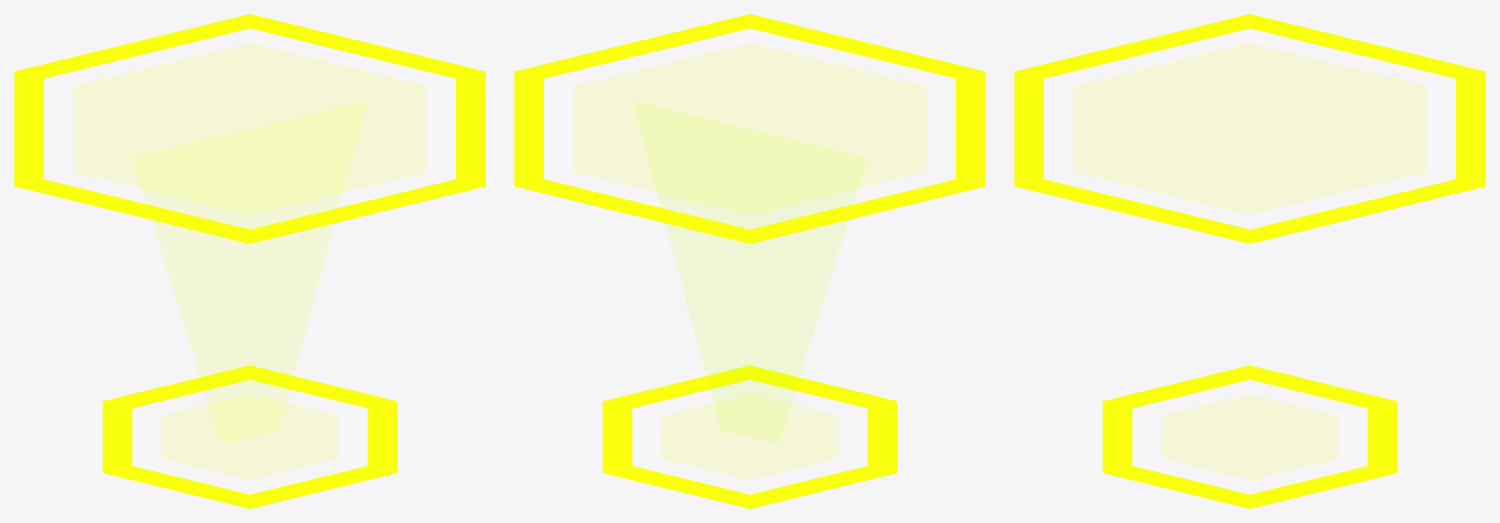
File: HEIGHT_TOOL_0001.fbx
3 renders of one model, left to right at view 1: azimuth 30°, elevation 25°; view 2: azimuth 150°, elevation 25°; view 3: azimuth 270°, elevation 25°, orthographic.
Visible parts, largest first — view 1: Out, Out.2; view 2: Out, Out.2; view 3: Out, Out.2.
Boxes of the visible parts, <box> form: Out: <box>14,14,485,243</box>; Out.2: <box>102,365,397,508</box>; Out: <box>514,14,985,243</box>; Out.2: <box>602,365,897,508</box>; Out: <box>1014,14,1485,243</box>; Out.2: <box>1102,365,1397,508</box>.
Size of the model in its own units: 80 by 50 by 69.28.
